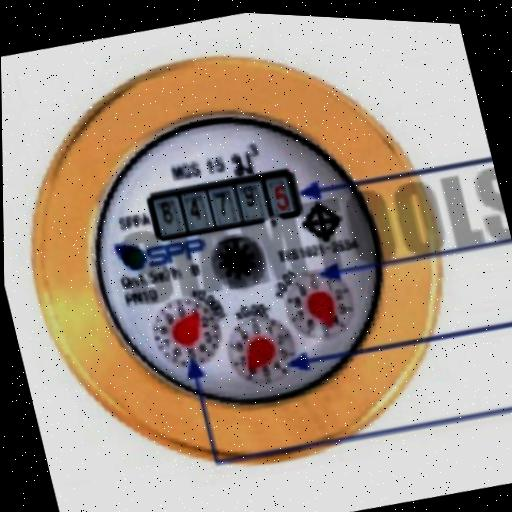4: (185, 195, 208, 232)
5: (271, 180, 292, 215)
7: (212, 189, 237, 226)
8: (157, 201, 182, 237)
9: (242, 185, 264, 222)
border_water_meter_number: (145, 160, 304, 251)
